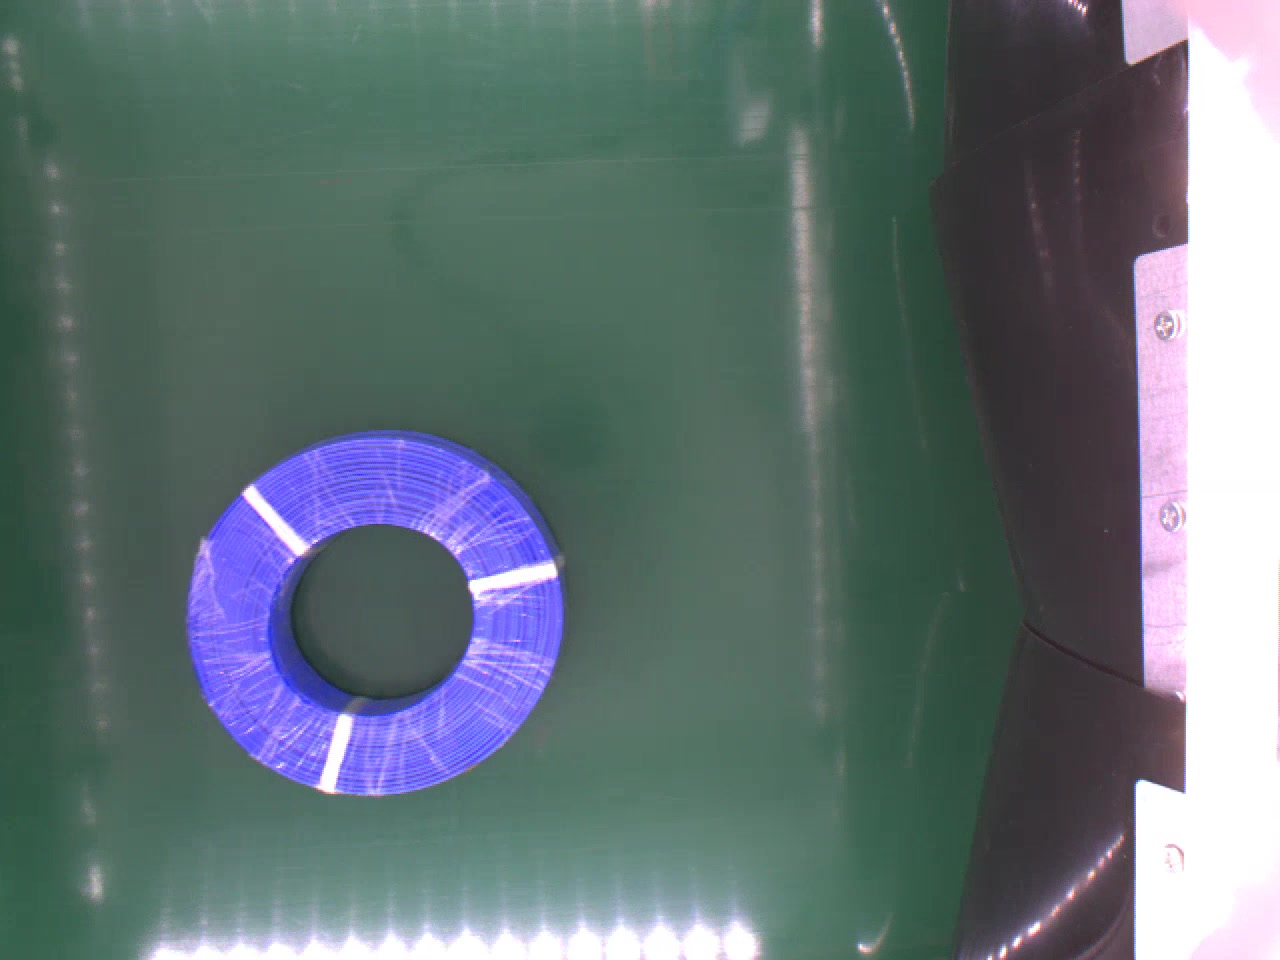blue: (185, 429, 560, 794)
